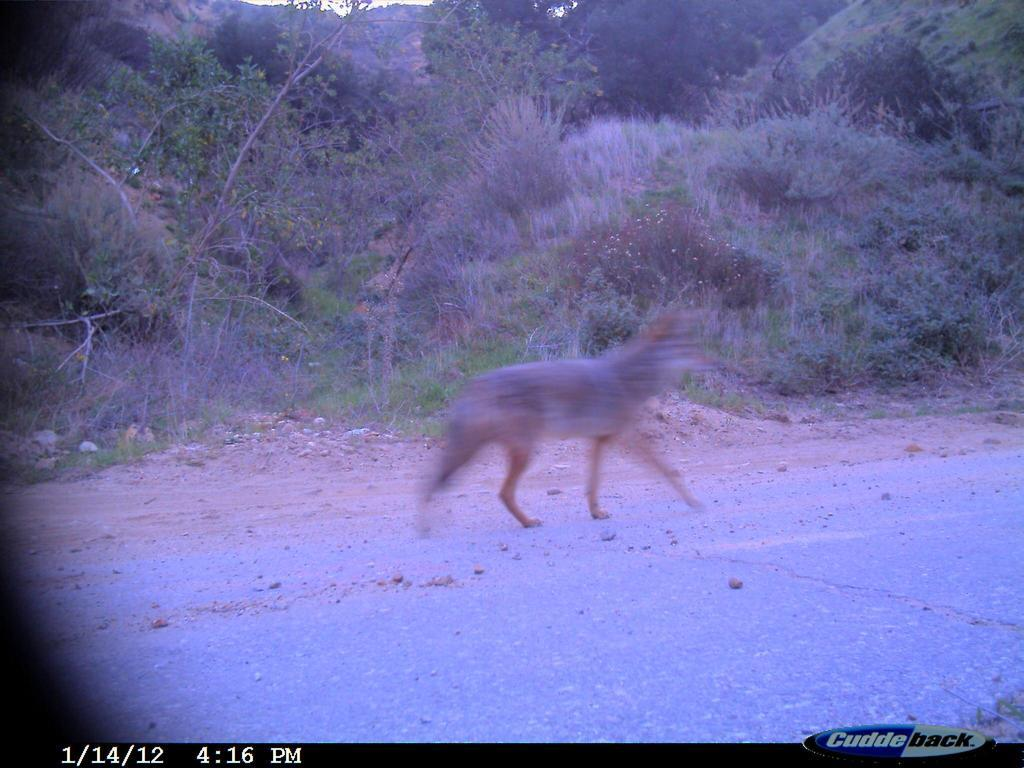coyote: (410, 305, 725, 548)
